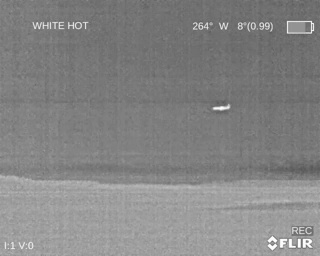AIRPLANE: (211, 103, 231, 112)
